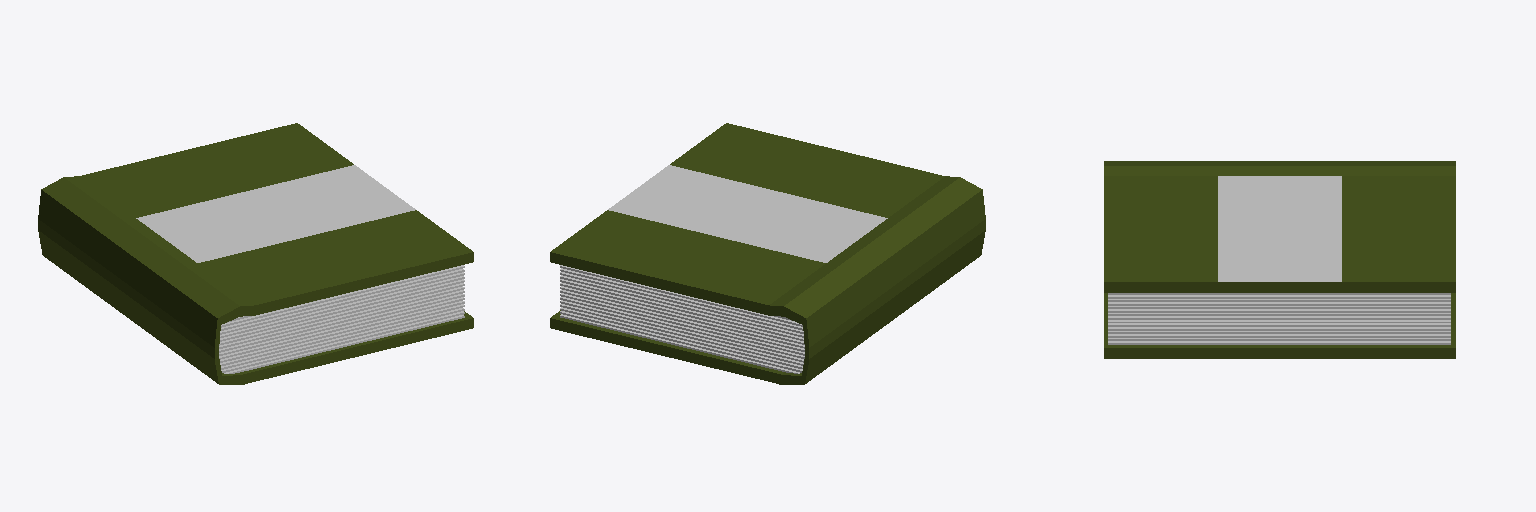
File: book.obj
3 views of the same model, side by side, from view 1: azimuth 30°, elevation 25°; view 2: azimuth 150°, elevation 25°; view 3: azimuth 270°, elevation 25° (orthographic).
Visible parts, largest first — view 1: book_close_paper.016; view 2: book_close_paper.016; view 3: book_close_paper.016.
Part boxes in pixels (left/top/right/bottom): book_close_paper.016: left=38, top=123, right=473, bottom=384; book_close_paper.016: left=550, top=123, right=985, bottom=384; book_close_paper.016: left=1104, top=161, right=1455, bottom=358.
Size of the model in its own units: 0.1263 by 0.0369 by 0.1488.